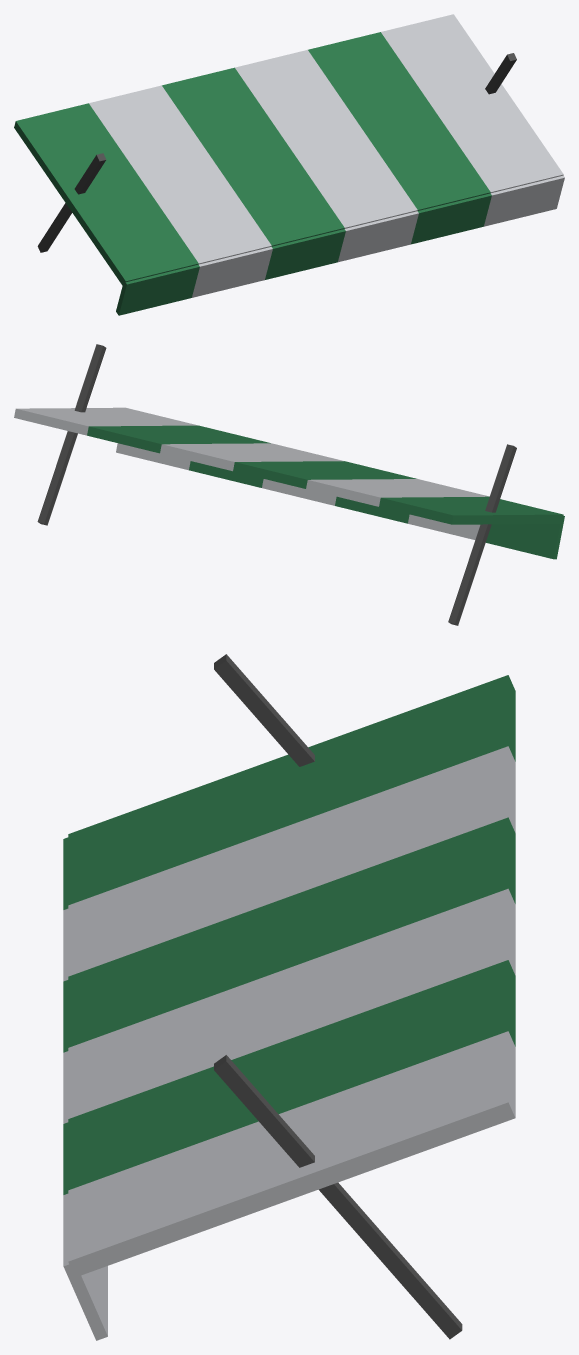
Rendered from awning_green.glb.
3 views of the same model, one above another, from view 1: azimuth 30°, elevation 25°; view 2: azimuth 150°, elevation 25°; view 3: azimuth 270°, elevation 25° (orthographic). The views are drawn at different scales.
Visible parts, largest first — view 1: awning_green; view 2: awning_green; view 3: awning_green.
Boxes of the visible parts, x1,y1,x2,y2 form: awning_green: [14, 14, 564, 315]; awning_green: [14, 344, 564, 625]; awning_green: [63, 654, 515, 1340].
Bounding box in the file's own units: 3.2 × 0.9711 × 1.43.
